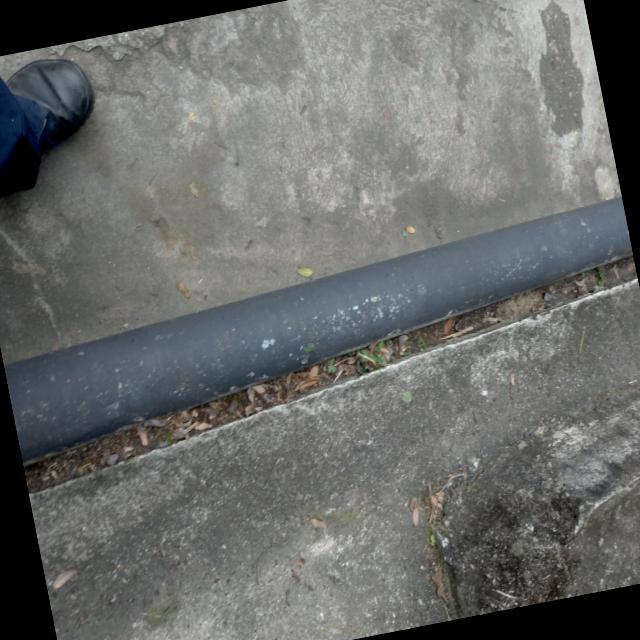gas: (2, 194, 634, 465)
